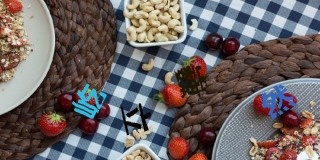屹: (72, 84, 107, 120)
巍: (174, 63, 209, 97)
然: (260, 83, 299, 119)
立: (119, 104, 149, 135)
